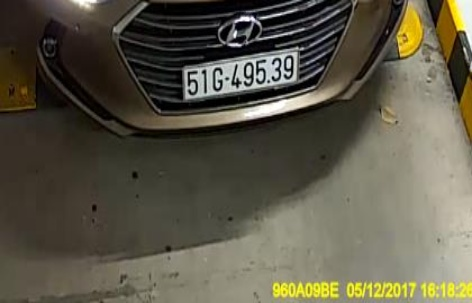plate: (176, 50, 307, 107)
